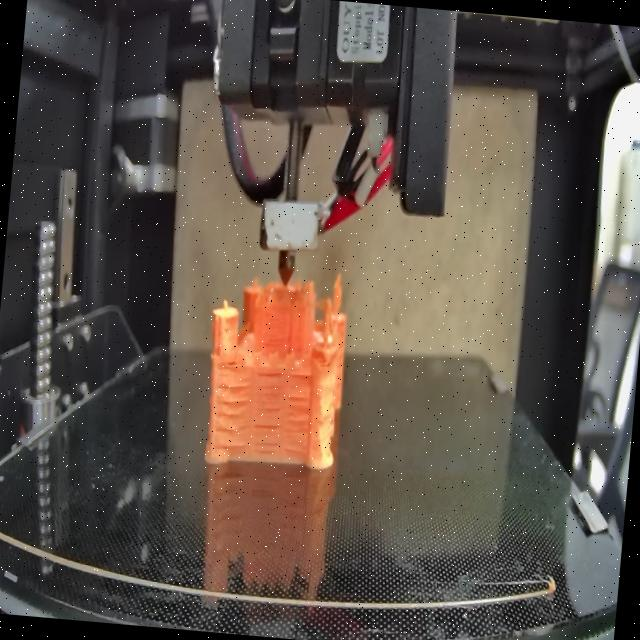cracks: (210, 379, 252, 454), (282, 392, 311, 454), (253, 370, 284, 415), (250, 422, 280, 456), (221, 350, 240, 370), (291, 365, 312, 381)
